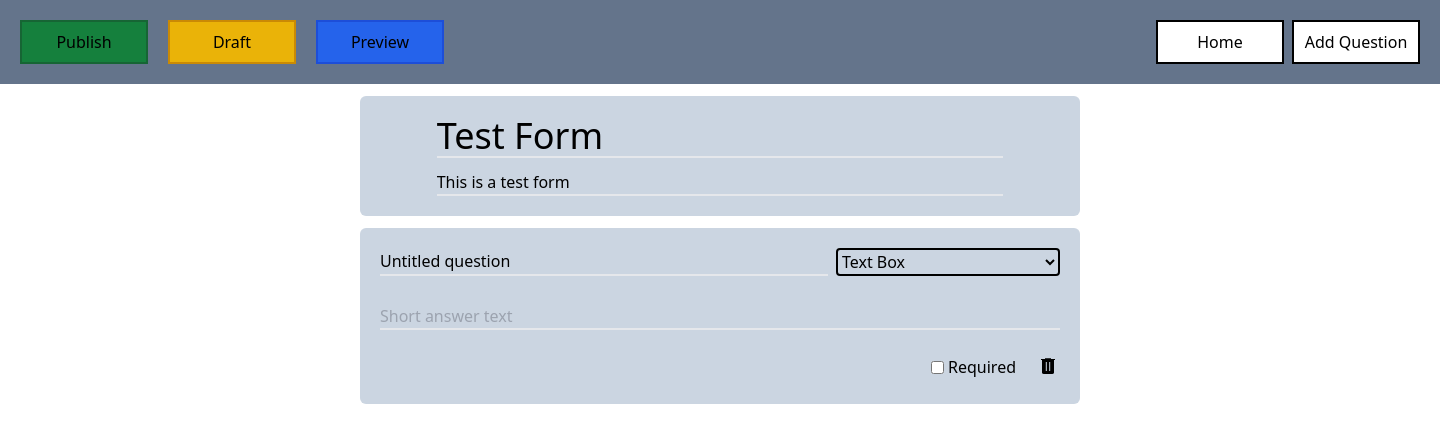
Test: FormPage › handles question type change
Check: the 1st field showing "Test Form" is shown, box [437, 116, 1003, 158]
Select "Text Area" in the dropdown with class "optionsdd" at [948, 262], box [836, 248, 1060, 276]
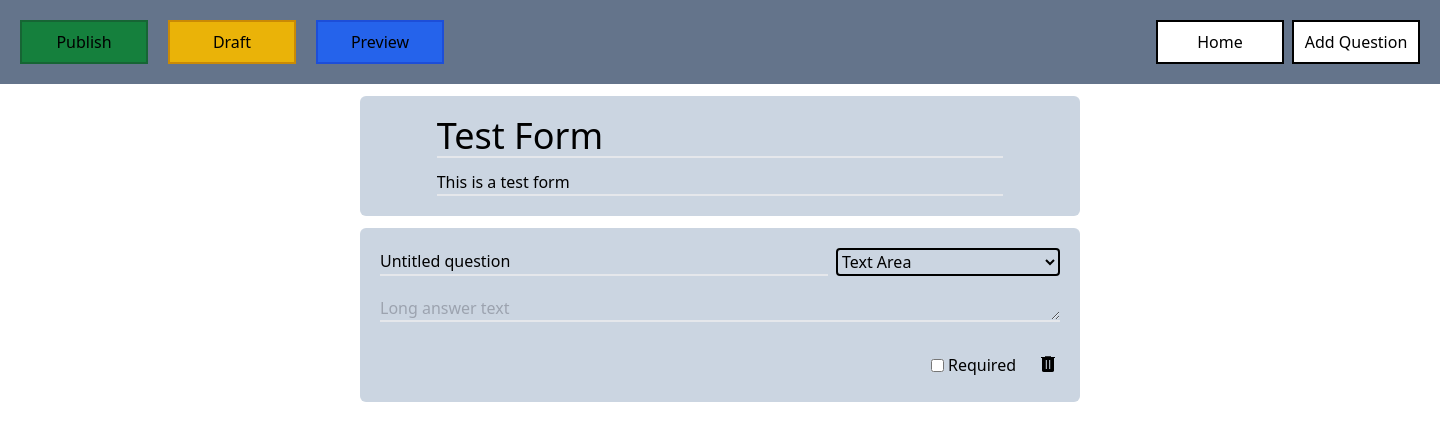
Check: the text box with placeholder "Long answer text" is shown, box [380, 296, 1060, 322]
